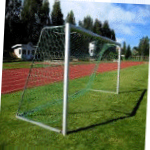goals: (18, 21, 123, 137)
